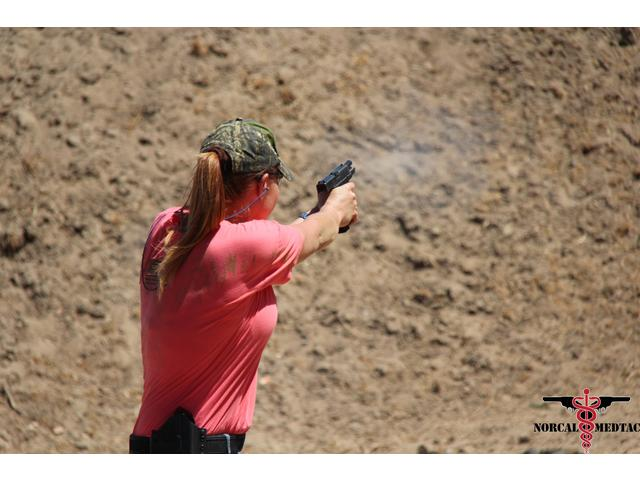pistol: (317, 158, 362, 230)
